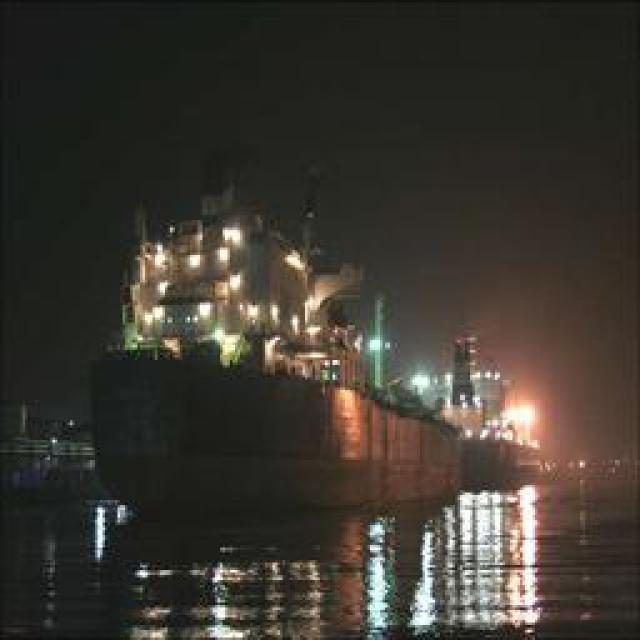Ship: (98, 363, 466, 521)
